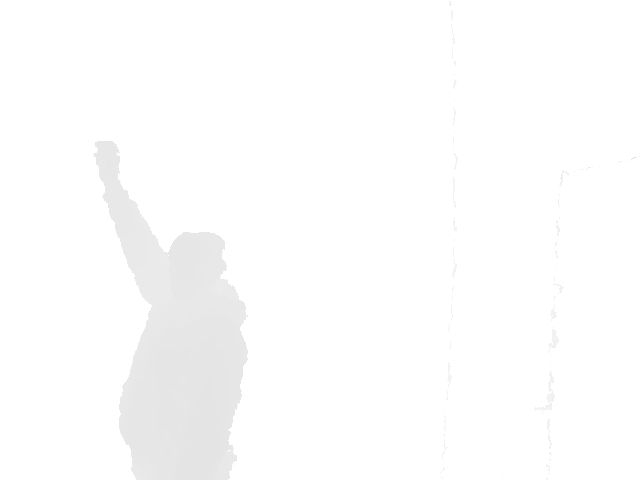hand: (92, 139, 121, 179)
head: (166, 230, 227, 305)
person: (92, 139, 250, 480)
